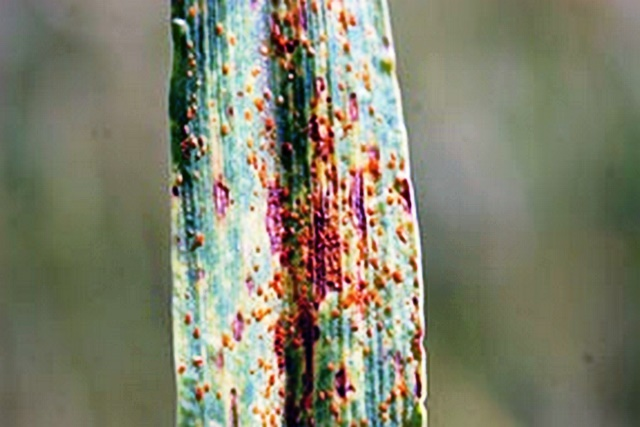Leaf Rust: (141, 43, 423, 399)
